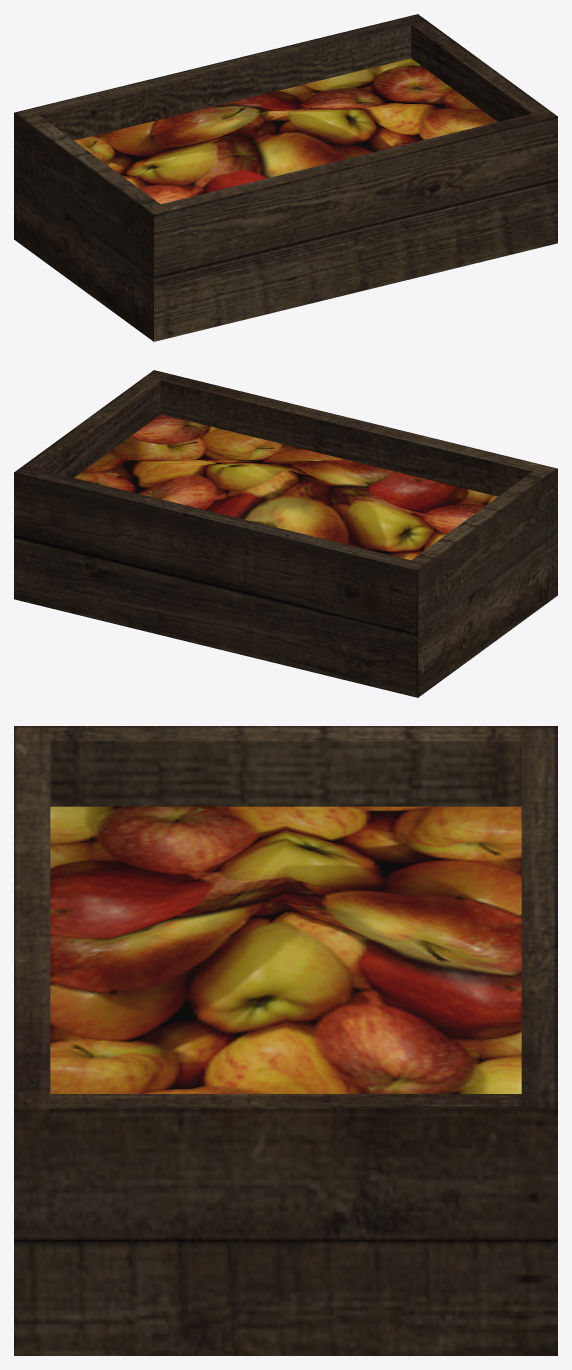
The model's file is Fruits1_LOD1.fbx.
The picture shows the model from 3 angles, top to bottom: view 1: azimuth 30°, elevation 25°; view 2: azimuth 150°, elevation 25°; view 3: azimuth 270°, elevation 25°; orthographic projection. The views are drawn at different scales.
Visible parts, largest first — view 1: polySurface87; view 2: polySurface87; view 3: polySurface87.
Boxes of the visible parts, left/top/right/bottom form: polySurface87: left=14, top=14, right=557, bottom=341; polySurface87: left=14, top=370, right=557, bottom=697; polySurface87: left=14, top=726, right=557, bottom=1355.
Bounding box in the file's own units: 3.91 × 1.17 × 2.34.
